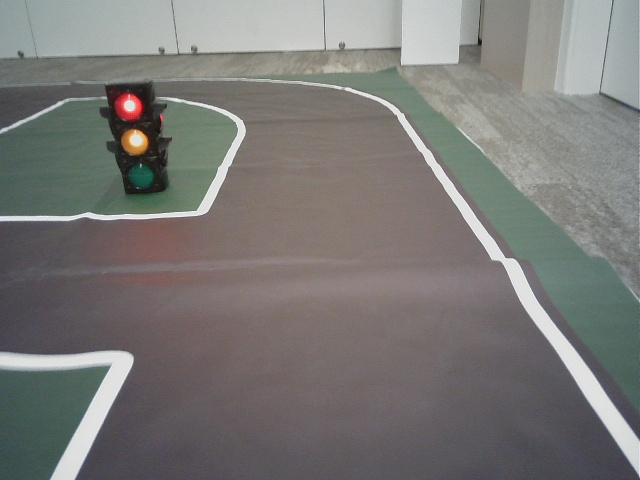red: (107, 86, 162, 189)
